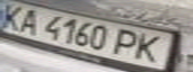0: (90, 23, 115, 53)
1: (57, 16, 78, 45)
4: (36, 12, 63, 42)
6: (72, 19, 93, 48)
A: (12, 7, 45, 35)
K: (130, 32, 172, 63), (0, 1, 30, 30)
P: (109, 27, 145, 58)
